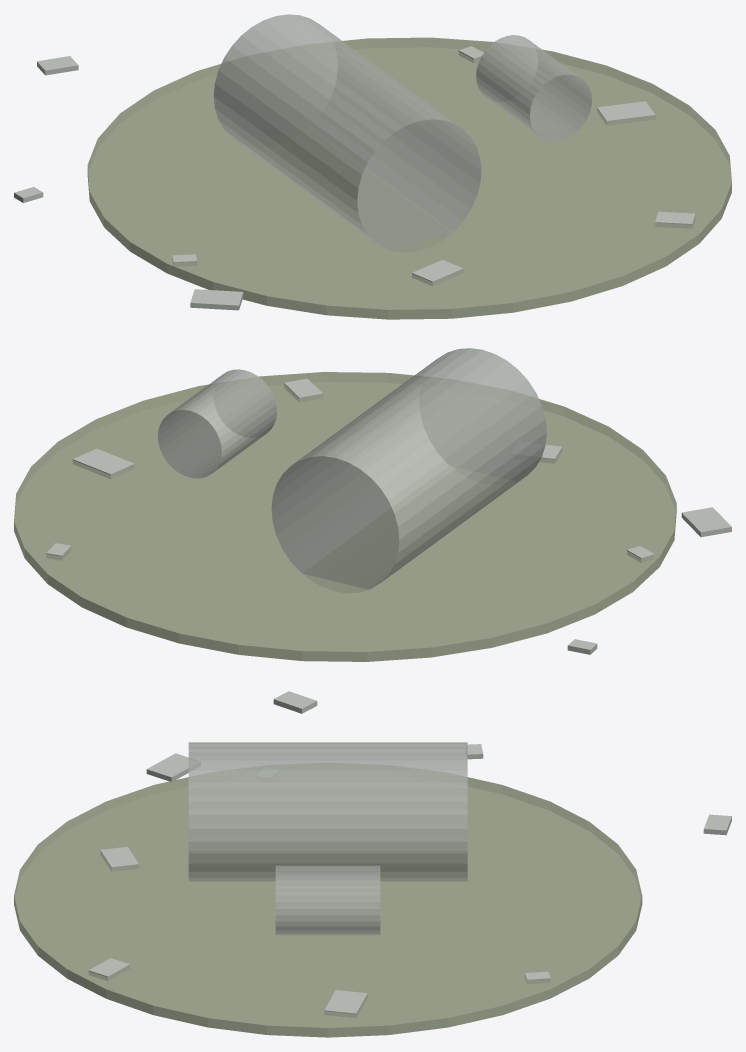
File: prop_broken_bottle.fbx
3 views of the same model, one above another, from view 1: azimuth 30°, elevation 25°; view 2: azimuth 150°, elevation 25°; view 3: azimuth 270°, elevation 25° (orthographic). The views are drawn at different scales.
Parts seen in each view (by area): view 1: Spill, Bottle, Neck, Shard0, Shard5, Shard6, Shard7, Shard2; view 2: Spill, Bottle, Neck, Shard0, Shard5, Shard6, Shard2, Shard7; view 3: Spill, Bottle, Neck, Shard5, Shard0, Shard6, Shard7, Shard2.
Part boxes in pixels (<box>): Spill: <box>87,37,731,319</box>; Bottle: <box>213,14,481,252</box>; Neck: <box>476,35,591,140</box>; Shard0: <box>597,101,655,125</box>; Shard5: <box>190,289,243,310</box>; Shard6: <box>412,259,463,285</box>; Shard7: <box>655,211,695,228</box>; Shard2: <box>37,56,78,75</box>; Spill: <box>14,372,676,661</box>; Bottle: <box>271,348,546,592</box>; Neck: <box>158,369,276,478</box>; Shard0: <box>72,448,134,478</box>; Shard5: <box>681,507,731,537</box>; Shard6: <box>511,442,562,463</box>; Shard2: <box>273,691,317,713</box>; Shard7: <box>284,378,322,402</box>; Spill: <box>14,777,642,1037</box>; Bottle: <box>188,742,467,881</box>; Neck: <box>275,865,380,935</box>; Shard5: <box>146,753,200,781</box>; Shard0: <box>324,990,367,1017</box>; Shard6: <box>100,846,138,871</box>; Shard7: <box>88,958,129,980</box>; Shard2: <box>703,814,731,835</box>.
Bounding box in the file's own units: 38.41 × 8 × 41.14.
